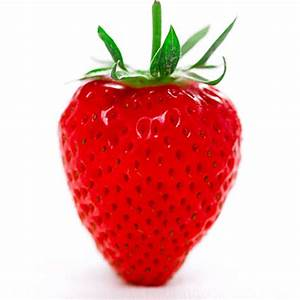Fresa: (56, 65, 248, 291)
